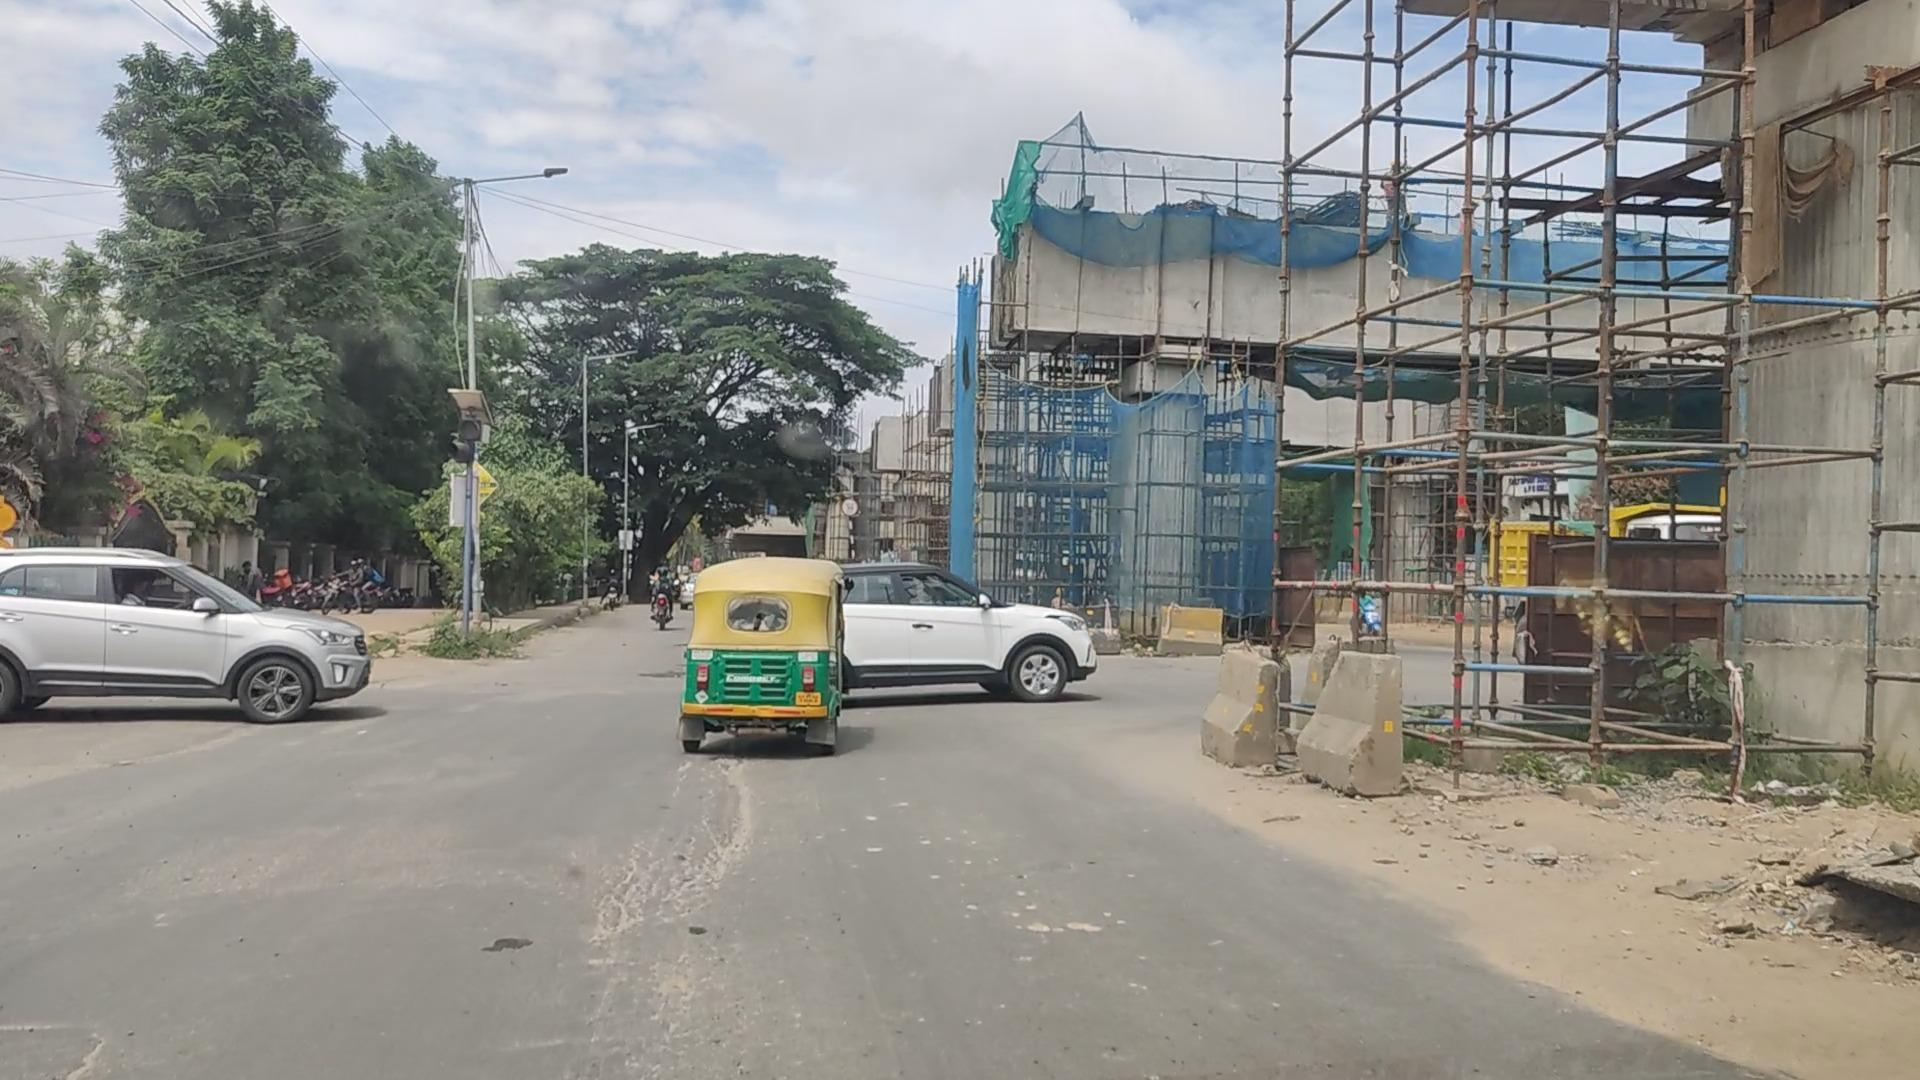LMV: (3, 545, 375, 727), (688, 562, 848, 760)
RoadDamages: (608, 760, 741, 953)
